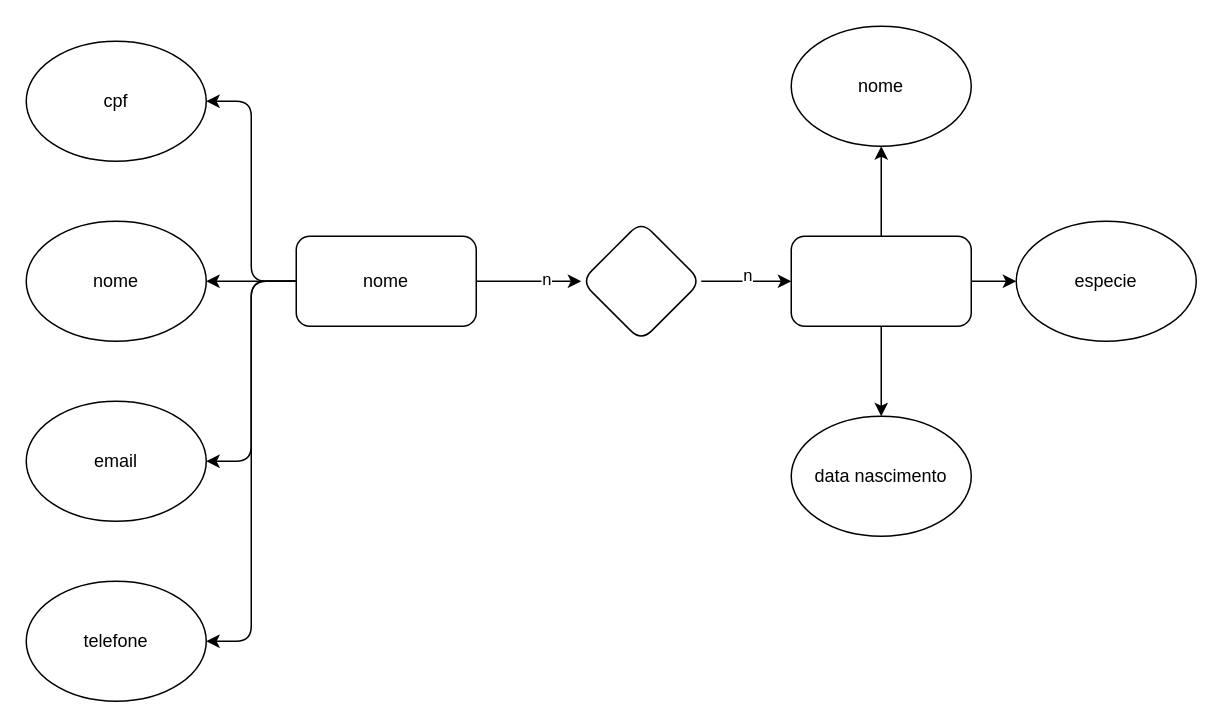
This 1223x728 diagram has some shape labels left out. Each missing label, with the box of its shape:
pet: (790, 235, 971, 326)
tem: (580, 220, 701, 341)
